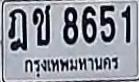1: (121, 4, 130, 42)
5: (99, 4, 114, 41)
6: (81, 5, 96, 42)
8: (62, 6, 77, 44)
A10: (32, 4, 50, 45)
A14: (8, 8, 26, 50)
BKK: (21, 54, 122, 77)
